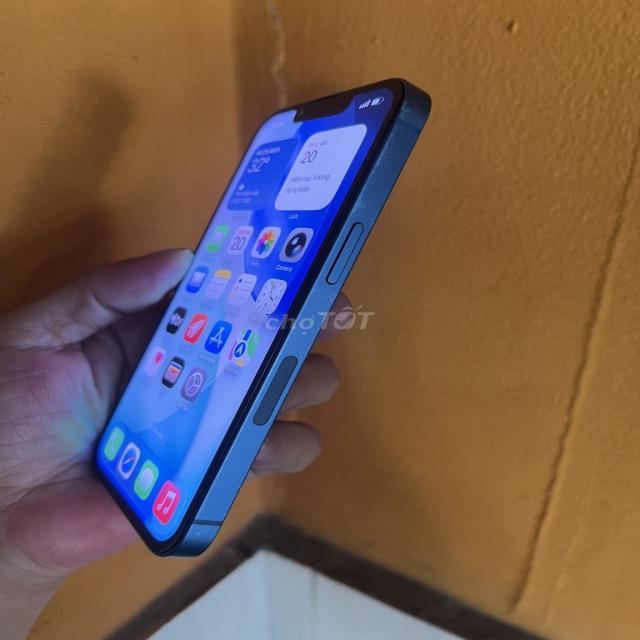gen_12_13: (84, 78, 441, 555)
